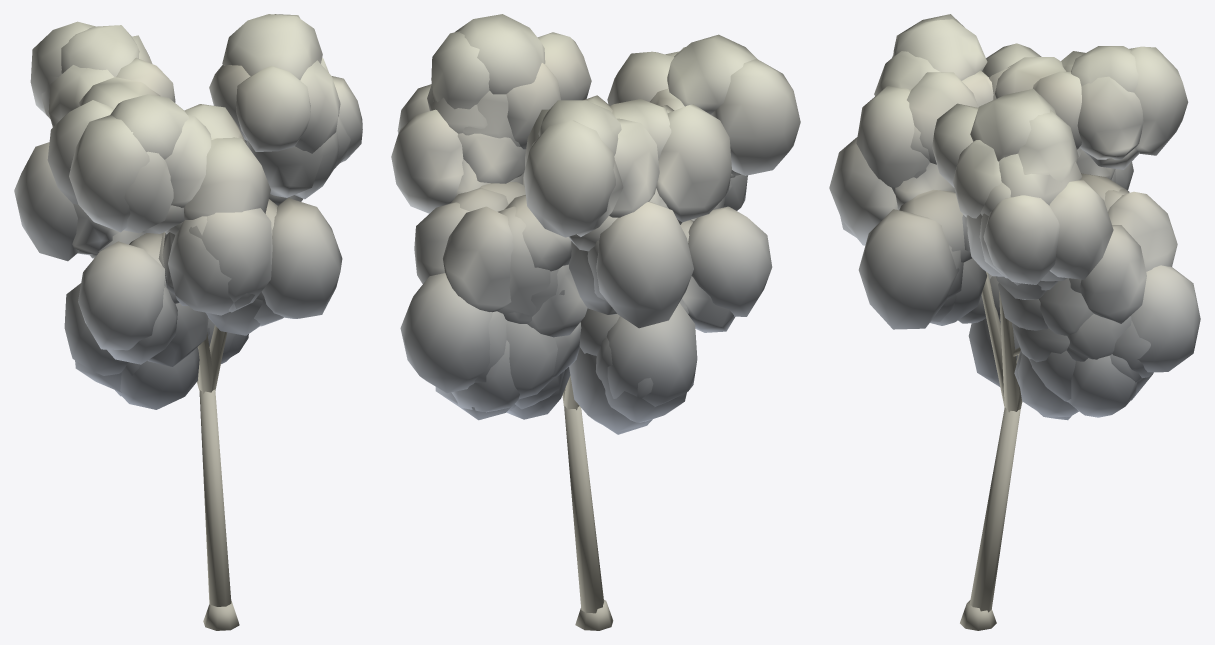
3 renders of one model, left to right at view 1: azimuth 30°, elevation 25°; view 2: azimuth 150°, elevation 25°; view 3: azimuth 270°, elevation 25°, orthographic. The views are drawn at different scales.
Parts seen in each view (by area): view 1: crown, trunk; view 2: crown, trunk; view 3: crown, trunk.
Boxes of the visible parts, box(x1,y1,x2,y2) form: crown: box(14, 14, 362, 409); trunk: box(197, 325, 239, 630); crown: box(391, 14, 800, 434); trunk: box(562, 376, 613, 630); crown: box(829, 14, 1200, 420); trunk: box(960, 272, 1022, 630).
Bounding box in the file's own units: 11.21 × 18.65 × 11.19.
